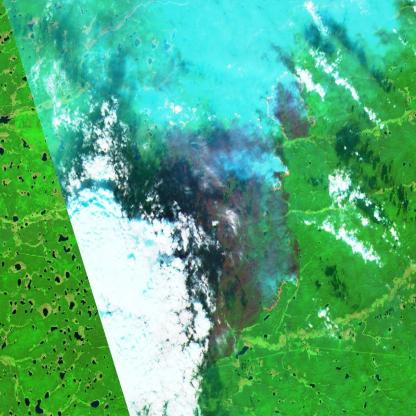fire: (263, 67, 316, 142), (257, 269, 302, 319), (268, 150, 290, 197)
